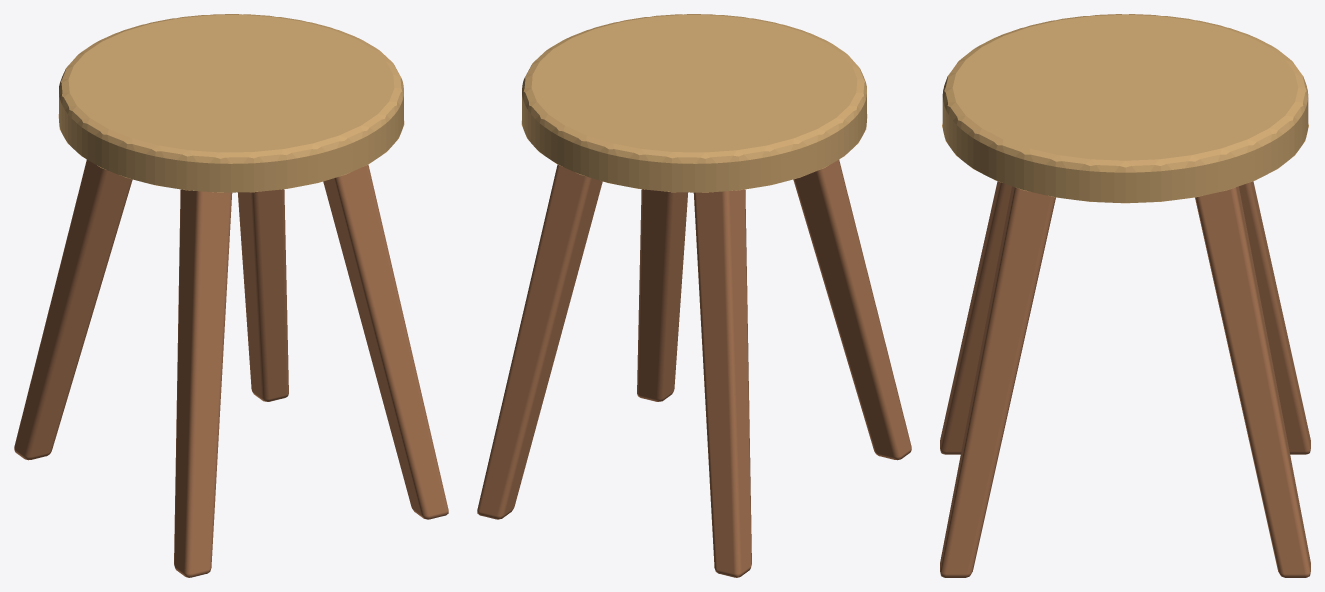
Rendered from chair.fbx.
3 views of the same model, side by side, from view 1: azimuth 30°, elevation 25°; view 2: azimuth 150°, elevation 25°; view 3: azimuth 270°, elevation 25° (orthographic). The views are drawn at different scales.
Visible parts, largest first — view 1: Plane.004, Circle; view 2: Plane.004, Circle; view 3: Circle, Plane.004.
Part boxes in pixels (x1,y1,x2,y2): Plane.004: [14, 159, 448, 577]; Circle: [58, 14, 404, 192]; Plane.004: [477, 159, 911, 577]; Circle: [521, 14, 867, 192]; Circle: [942, 14, 1308, 203]; Plane.004: [940, 181, 1310, 577].
Size of the model in its own units: 123 by 157 by 125.
